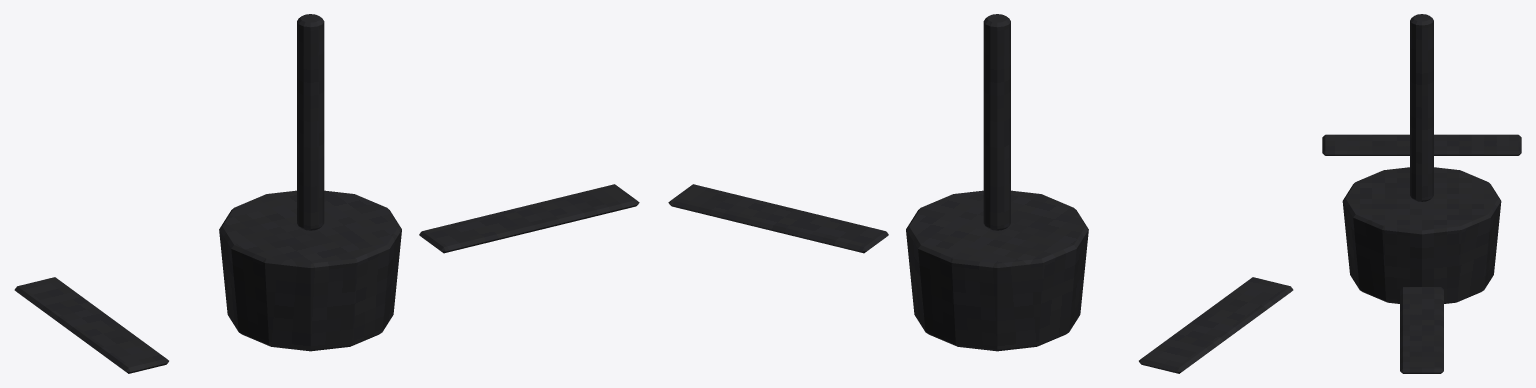
Rendered from CeilingFan.glb.
The picture shows the model from 3 angles, left to right: view 1: azimuth 30°, elevation 25°; view 2: azimuth 150°, elevation 25°; view 3: azimuth 270°, elevation 25°; orthographic projection. The views are drawn at different scales.
Visible parts, largest first — view 1: CeilingFan; view 2: CeilingFan; view 3: CeilingFan.
Boxes of the visible parts, left/top/right/bottom form: CeilingFan: left=14, top=14, right=639, bottom=373; CeilingFan: left=668, top=14, right=1293, bottom=373; CeilingFan: left=1322, top=14, right=1521, bottom=373.
Bounding box in the file's own units: 1.41 × 0.72 × 0.5.
Materials: 1 (1 with a texture image).
